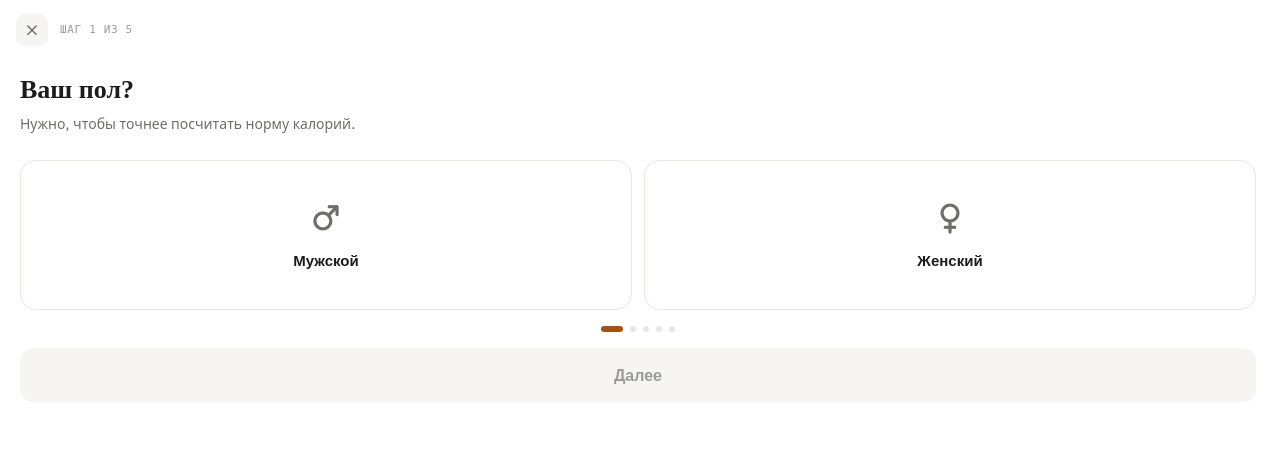
Test: ProfileWizard — дефолты роста/веса по полу › мужской → 178 см / 74 кг
The width and height of the screenshot is (1273, 467).
Click the button "Мужской": [326, 235] box [20, 160, 632, 310]
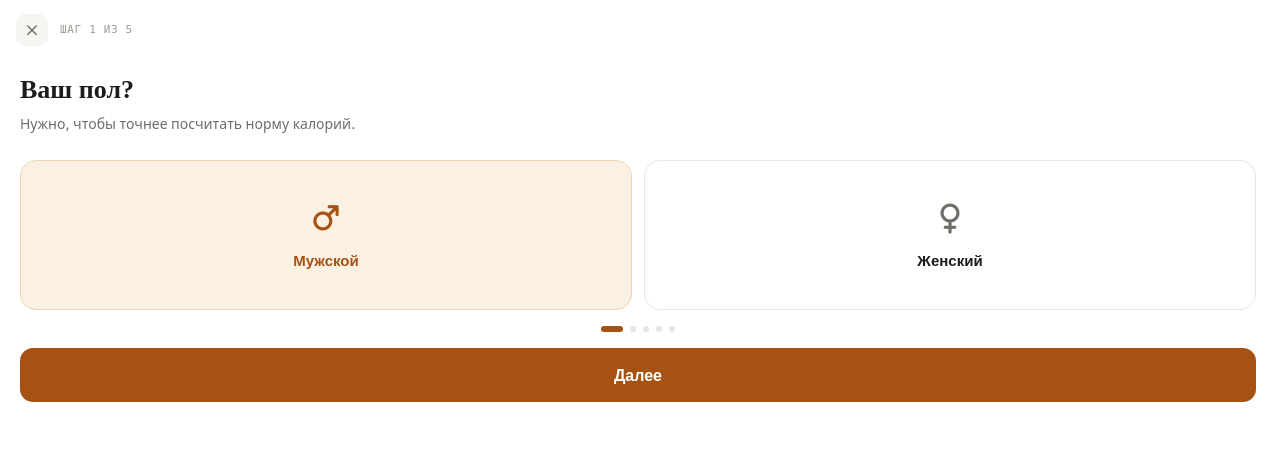
Click the button "Далее": [638, 375] box [20, 348, 1256, 402]
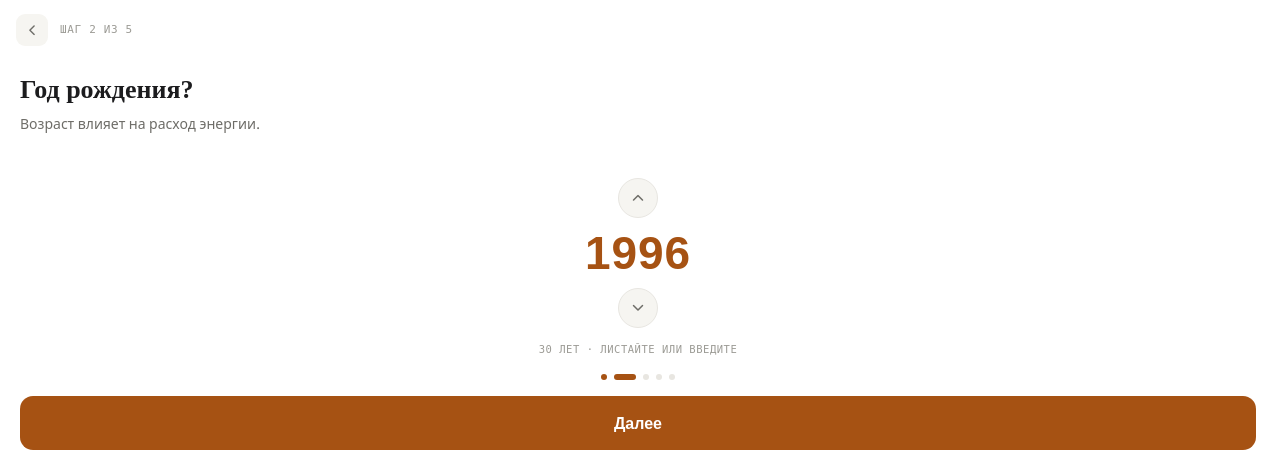
Click the button "Далее": [638, 423] box [20, 396, 1256, 450]
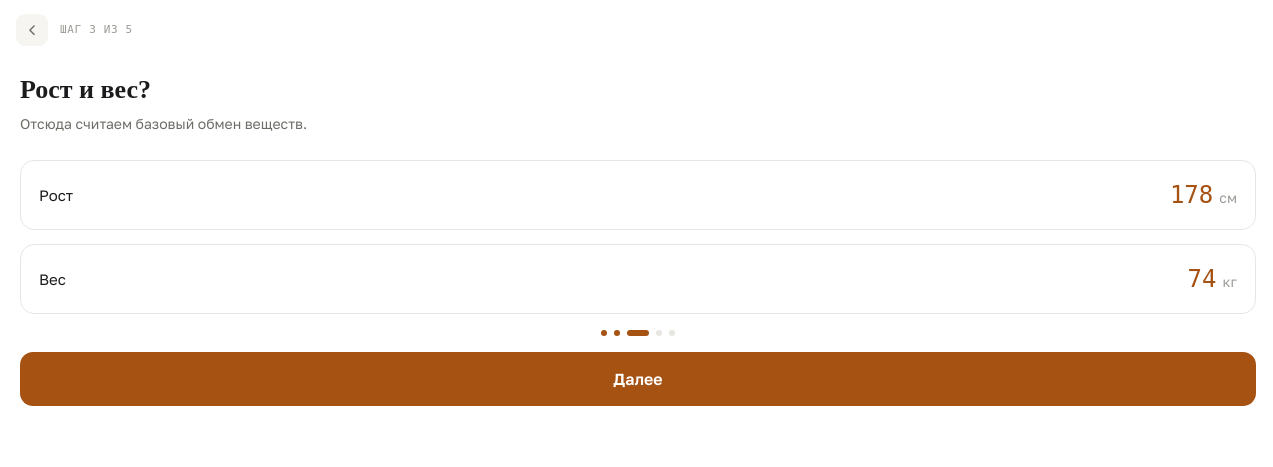
Result: the number field showing "178" next to "см" is shown at [1151, 177, 1213, 213]
Result: the number field showing "74" next to "кг" is shown at [1154, 261, 1216, 297]
